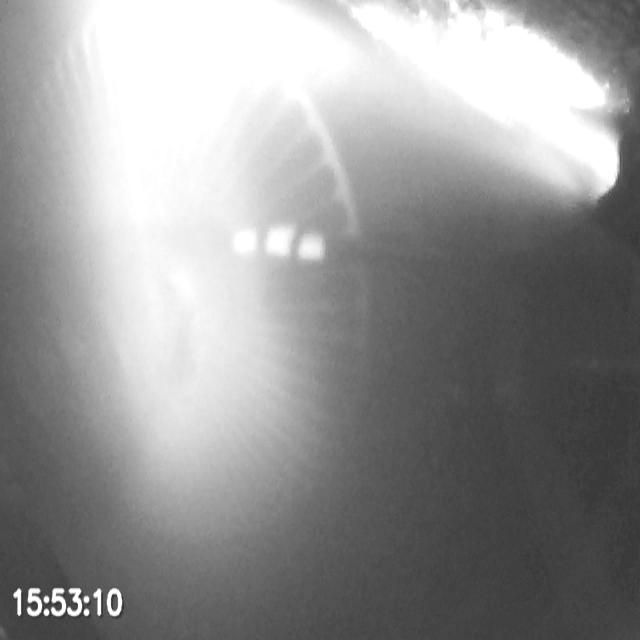white-dots: (232, 223, 328, 264)
